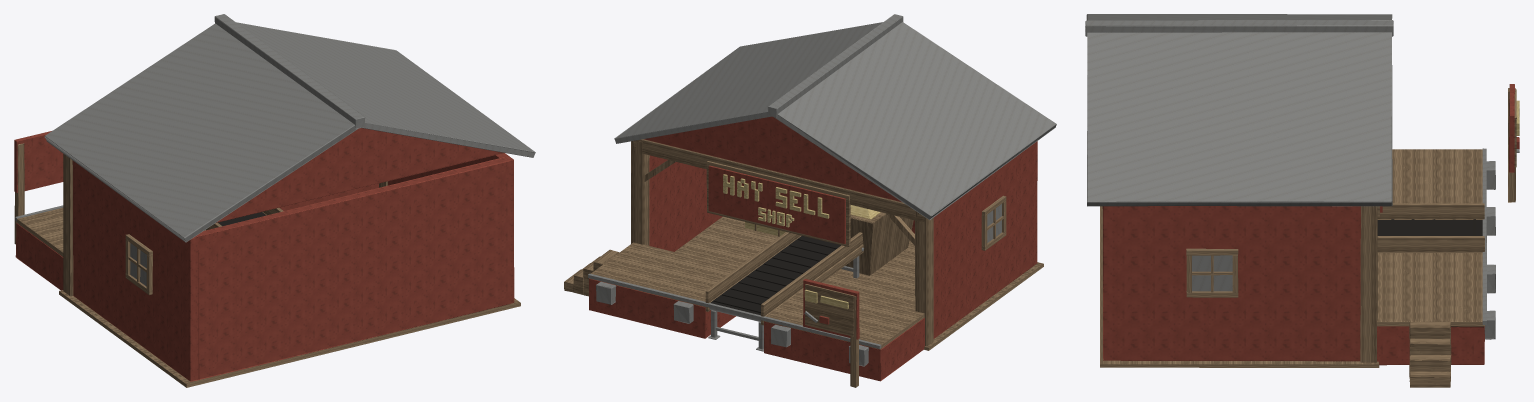
The model's file is hay_sell_shop.glb.
3 views of the same model, side by side, from view 1: azimuth 30°, elevation 25°; view 2: azimuth 150°, elevation 25°; view 3: azimuth 270°, elevation 25° (orthographic). The views are drawn at different scales.
Visible parts, largest first — view 1: HaySellShop; view 2: HaySellShop, Belt; view 3: HaySellShop, Belt.
Part boxes in pixels (x1,y1,x2,y2): HaySellShop: (14, 14, 535, 387); HaySellShop: (564, 14, 1056, 387); Belt: (710, 236, 840, 315); HaySellShop: (1085, 14, 1519, 387); Belt: (1377, 219, 1482, 235).
Bounding box in the file's own units: 9.89 × 5.82 × 8.93.
5 materials, 4 textured.
